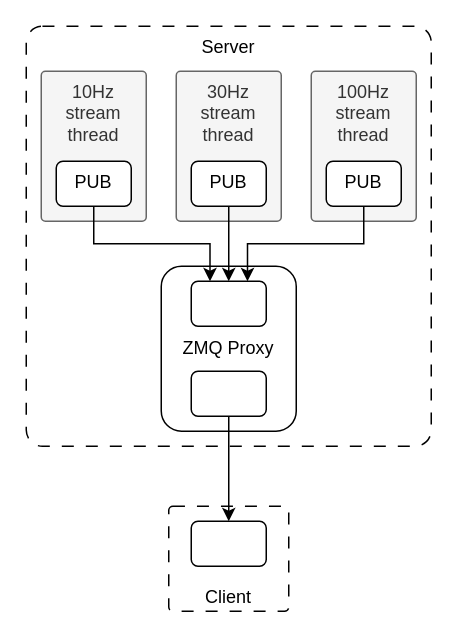
Image size: 458x638. Some labels were removed from this diagram. Here are the shapes that lost their labels. From the top down, the centre of each, then its label:
At point 228,303: "XSUB".
At point 228,393: "XPUB".
At point 228,543: "SUB".
